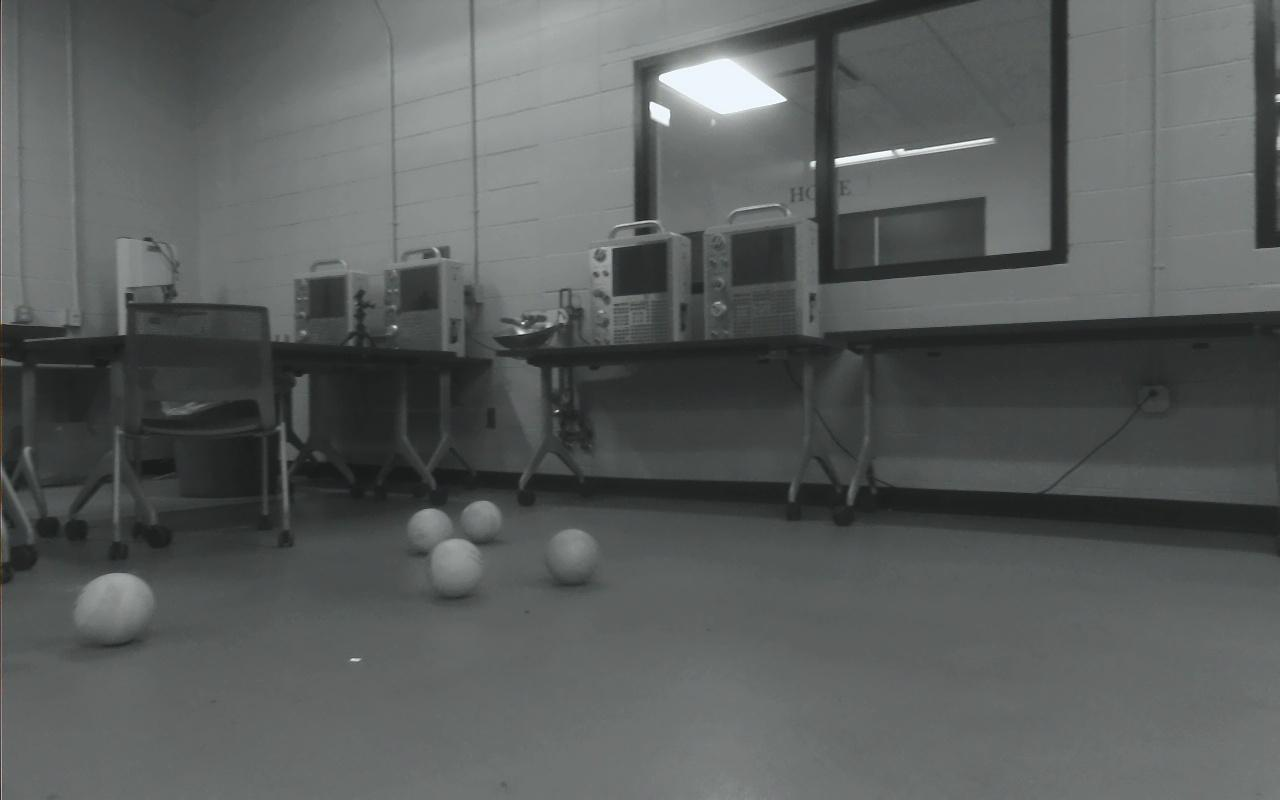Fuel: (73, 572, 155, 646), (426, 538, 484, 600), (545, 529, 600, 585), (406, 508, 454, 555), (458, 500, 502, 545)
